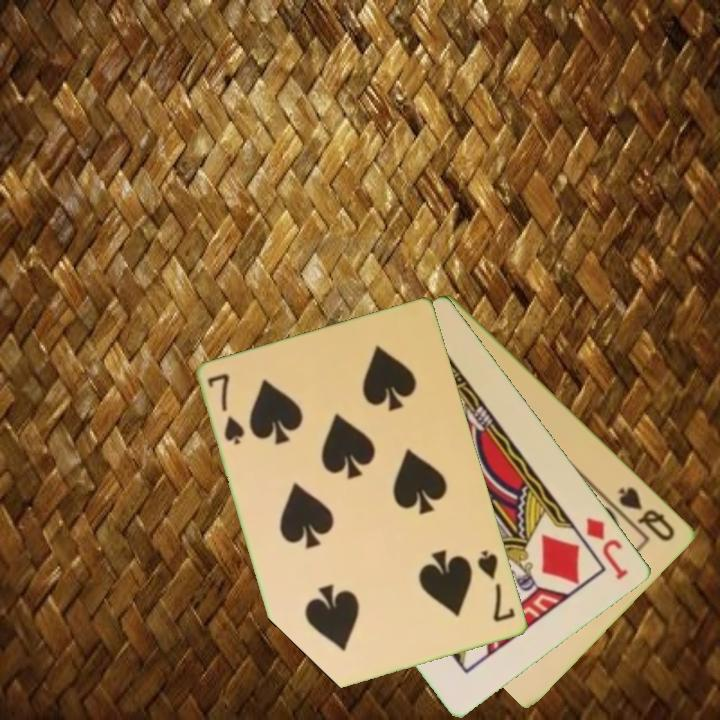7s: (474, 547, 519, 626), (204, 370, 248, 448)
Jd: (583, 513, 632, 583)
Qs: (615, 483, 679, 545)
